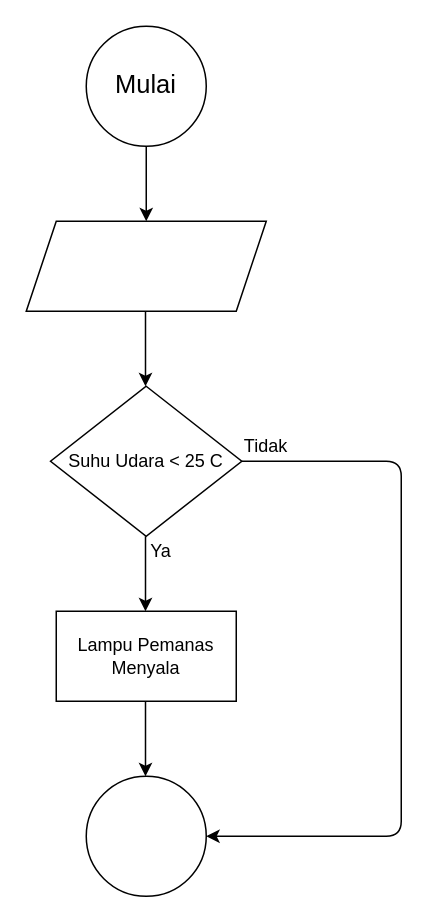
Some shapes in this 440 by 923 pixel diagram are drawn without their labels. Here are the shapes that lost their labels. From the top down, the centre of each, then its label:
At (145,265): "Sensor Mendeteksi Suhu".
At (145,835): "Selesai".
